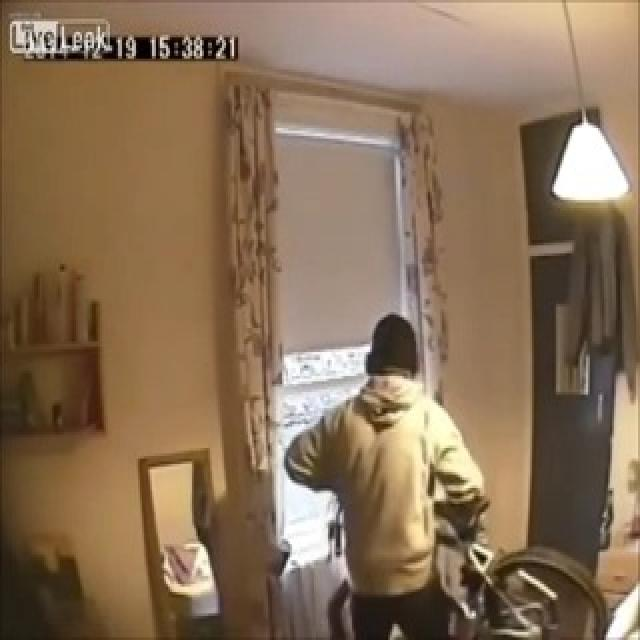thief: (355, 290, 430, 443)
